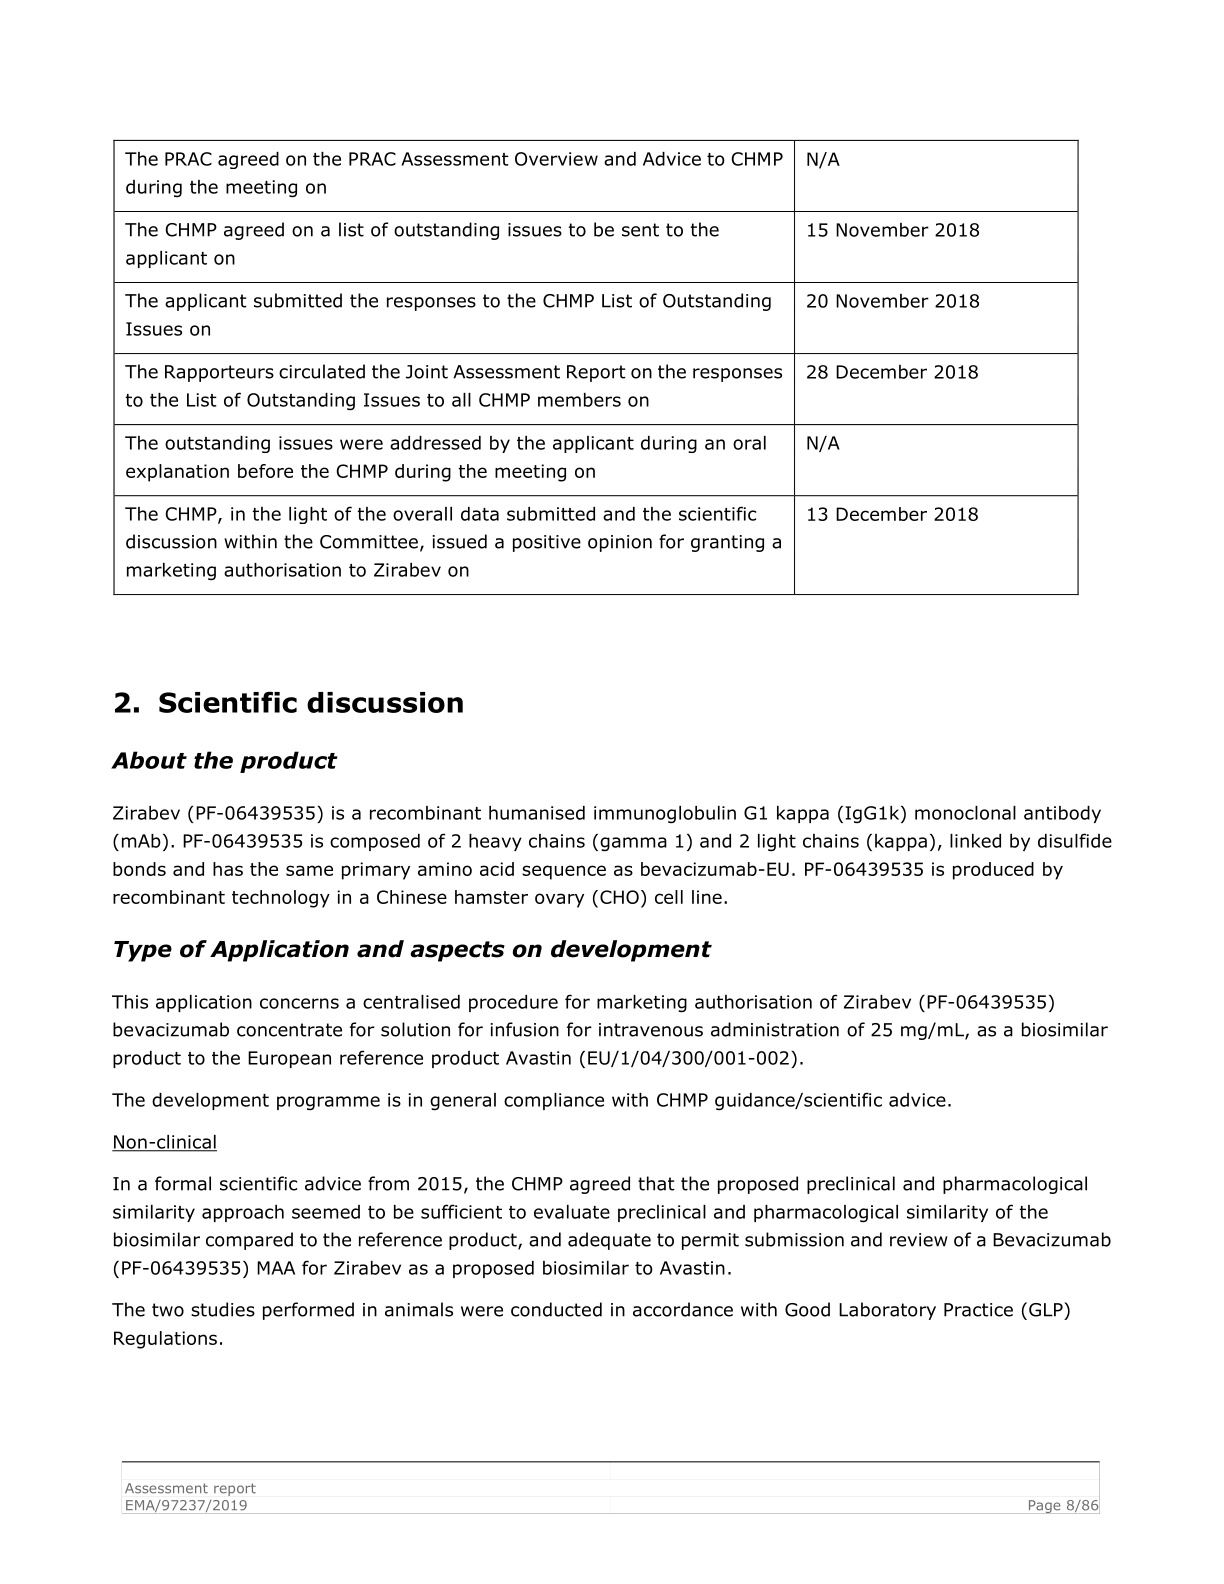full_lined: (112, 138, 1080, 597)
